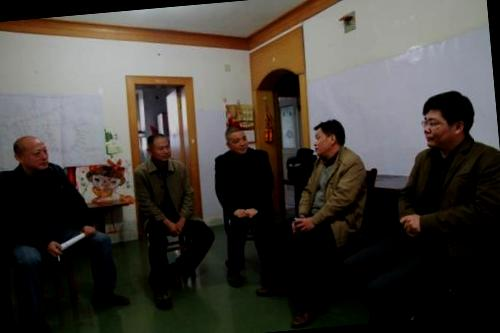no_helmet: (414, 86, 479, 157), (308, 114, 351, 158), (10, 132, 52, 174), (145, 128, 176, 165)
